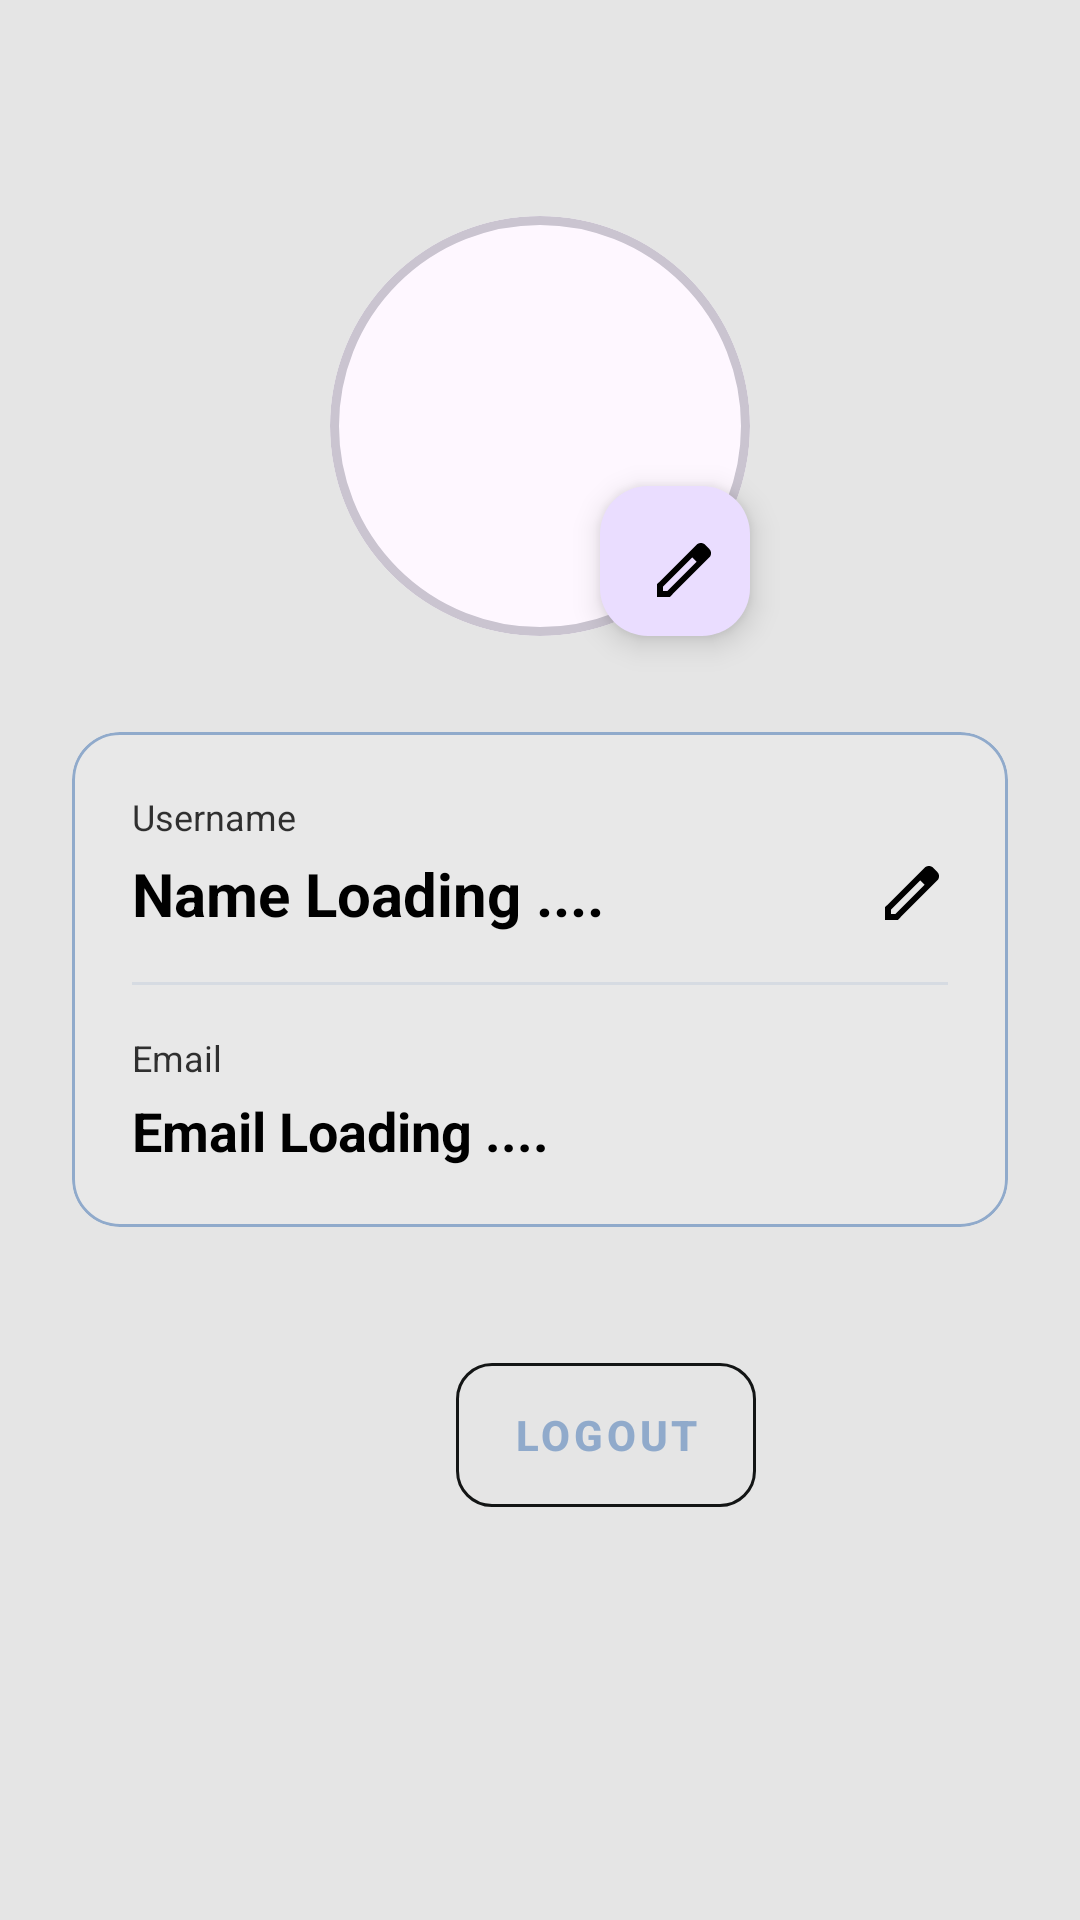

Screen size 1080 x 1920. Icon name, then its center in pixels as [x,y]:
Edit: [675,561], [912,893]
